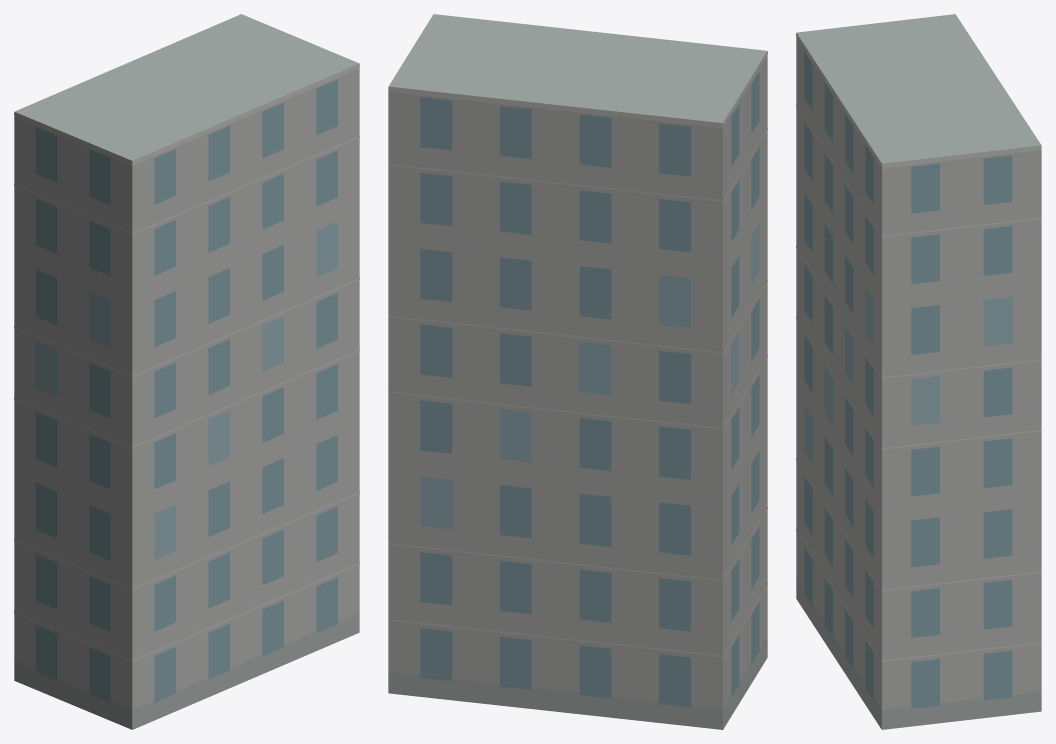
The model's file is survey-upis-32564065.glb.
3 renders of one model, left to right at view 1: azimuth 30°, elevation 25°; view 2: azimuth 150°, elevation 25°; view 3: azimuth 270°, elevation 25°, orthographic. The views are drawn at different scales.
Visible parts, largest first — view 1: survey-upis-32564065.tmp; view 2: survey-upis-32564065.tmp; view 3: survey-upis-32564065.tmp.
Part boxes in pixels (x1,y1,x2,y2): survey-upis-32564065.tmp: (14,14,359,729); survey-upis-32564065.tmp: (388,14,767,729); survey-upis-32564065.tmp: (796,14,1041,729).
Bounding box in the file's own units: 15.91 × 28 × 11.02.
